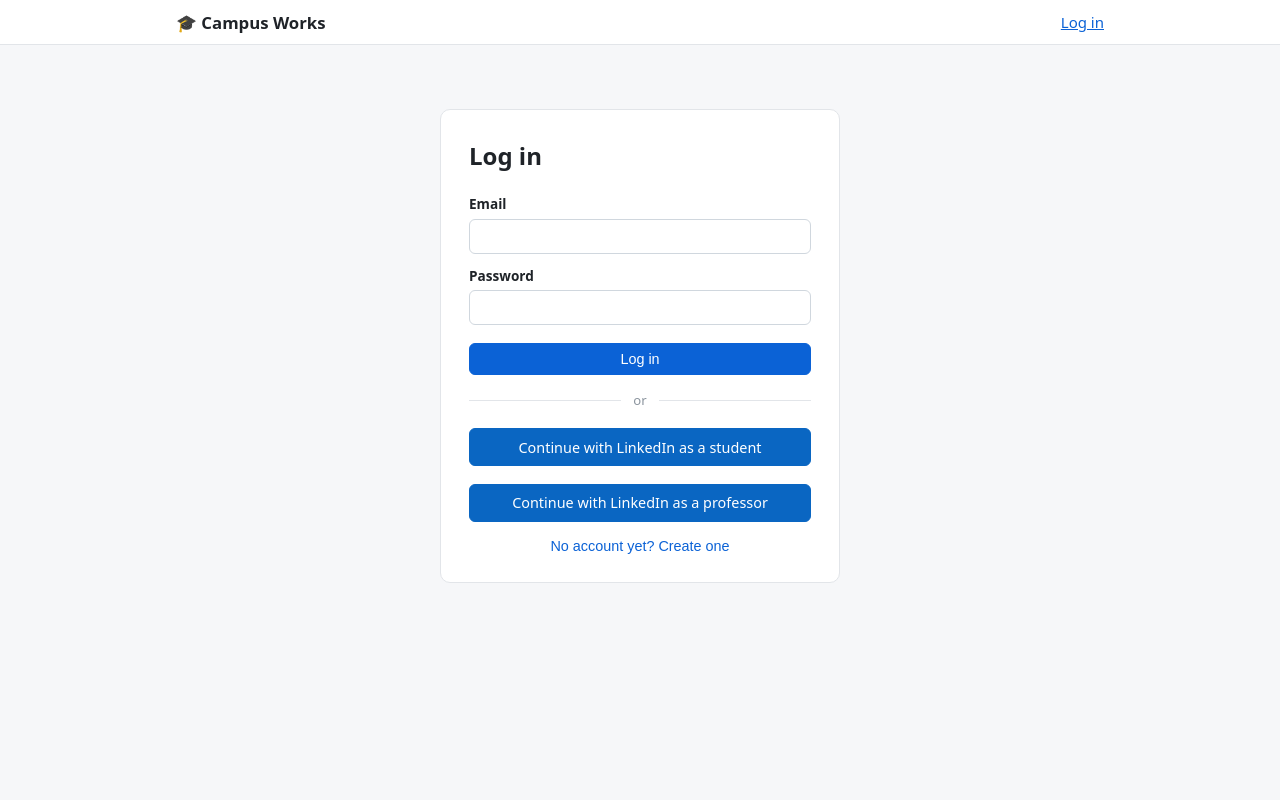
Scenario: shows the server message on a wrong password
Type "x@psu.edu" into the field labelled "Email" at (640,236), box [469, 219, 811, 254]
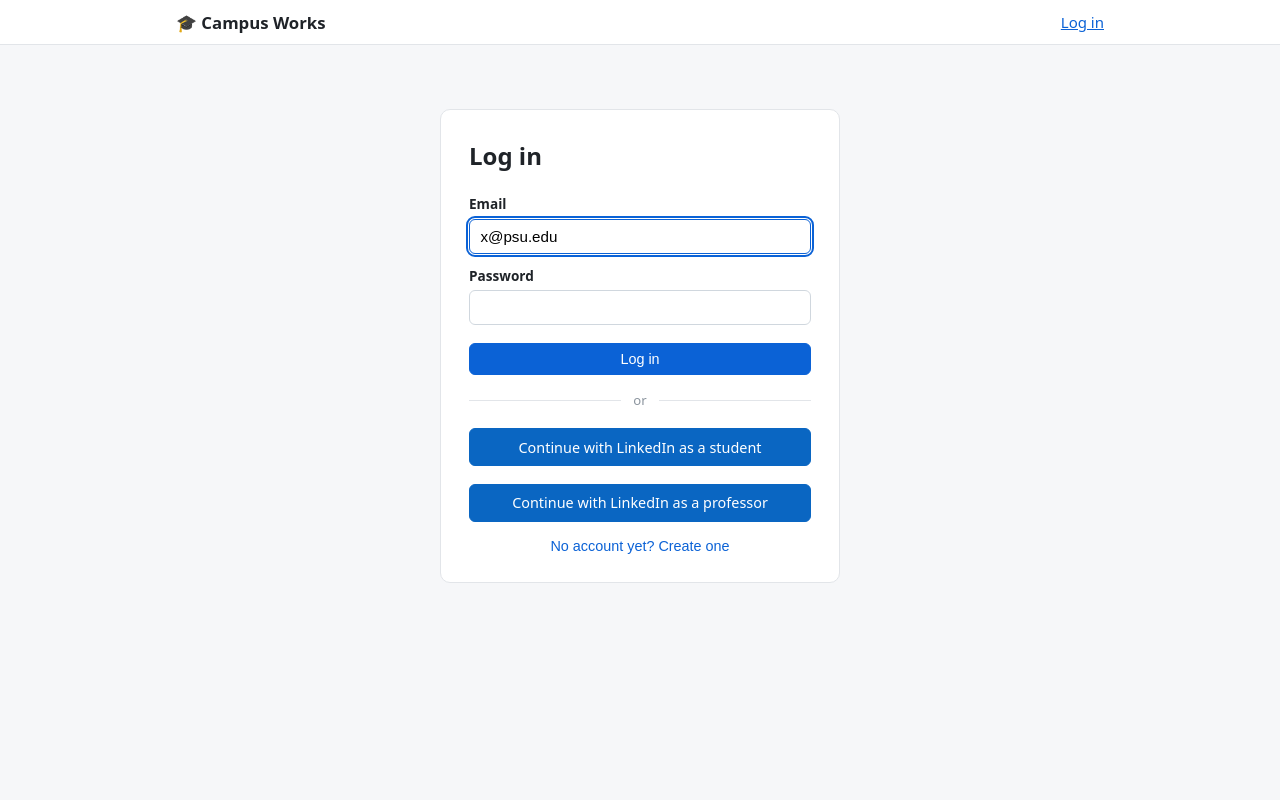
Type "wrongpass" into the password field labelled "Password" at (640,308), box [469, 290, 811, 325]
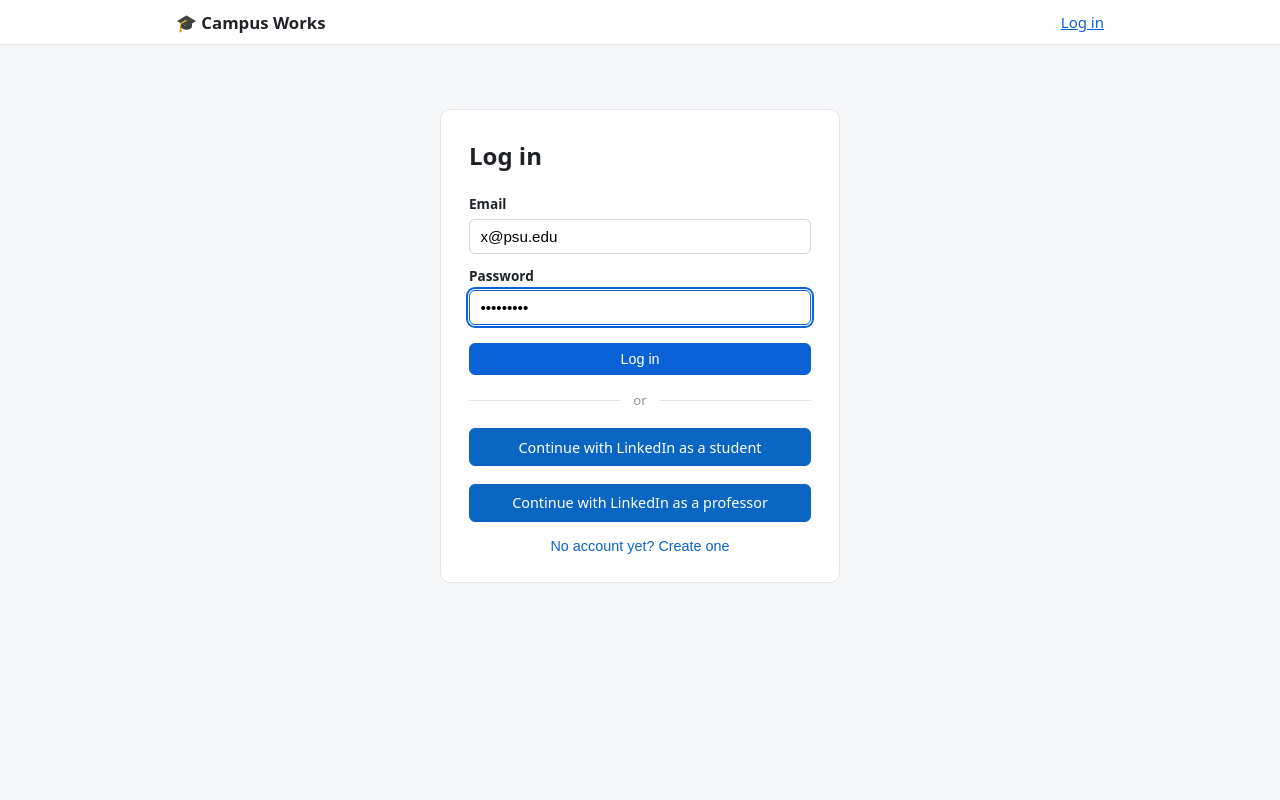
Click the button "Log in" at (640,359), box [469, 343, 811, 375]
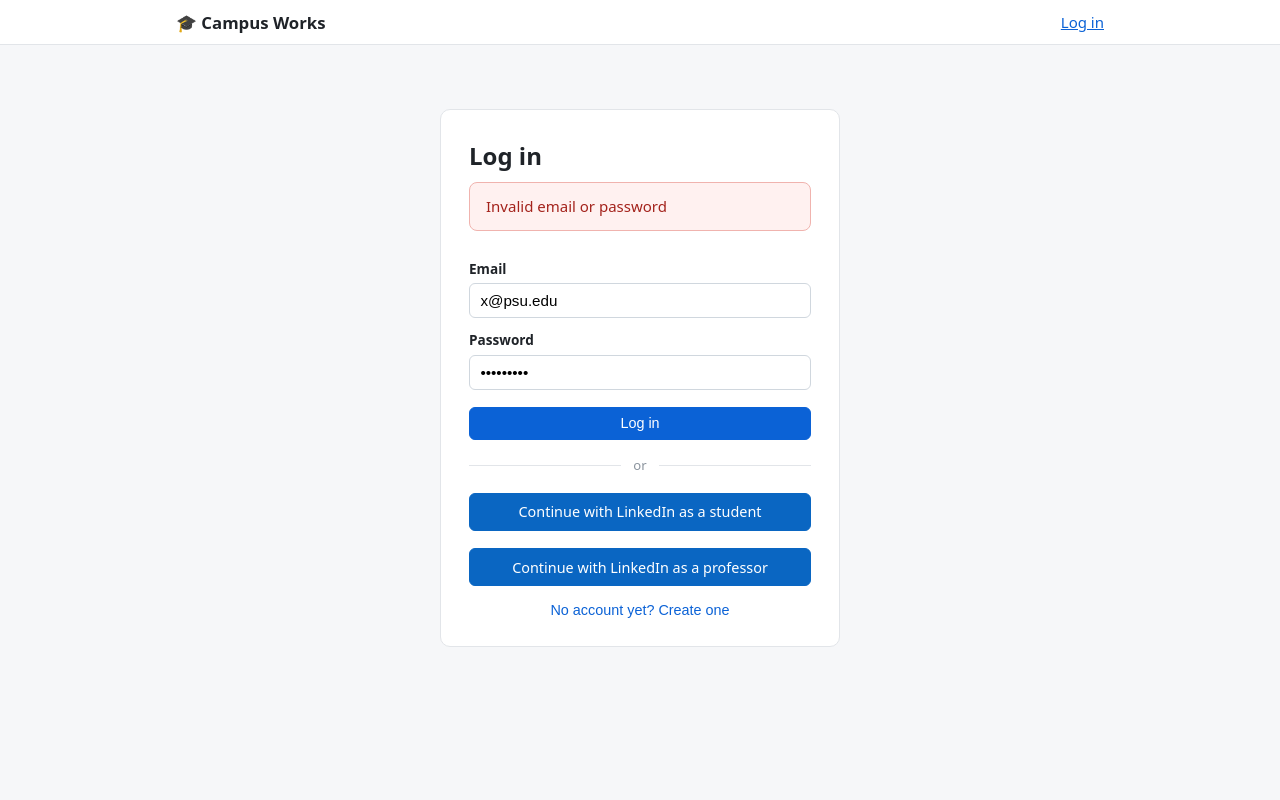
expect the message reads "Invalid email or password": met, box [486, 196, 667, 216]
